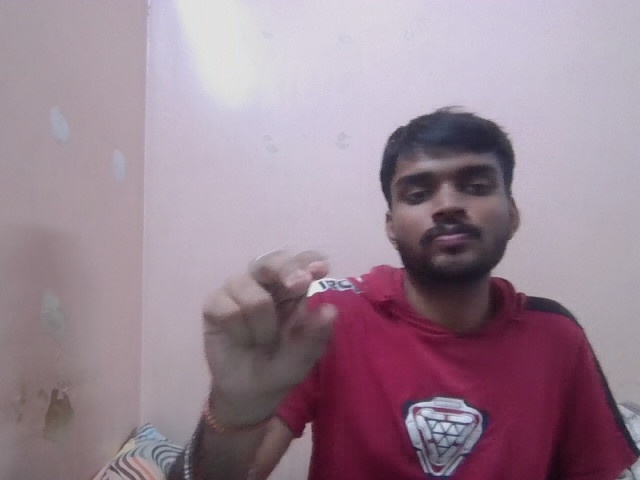No: (201, 244, 340, 391)
